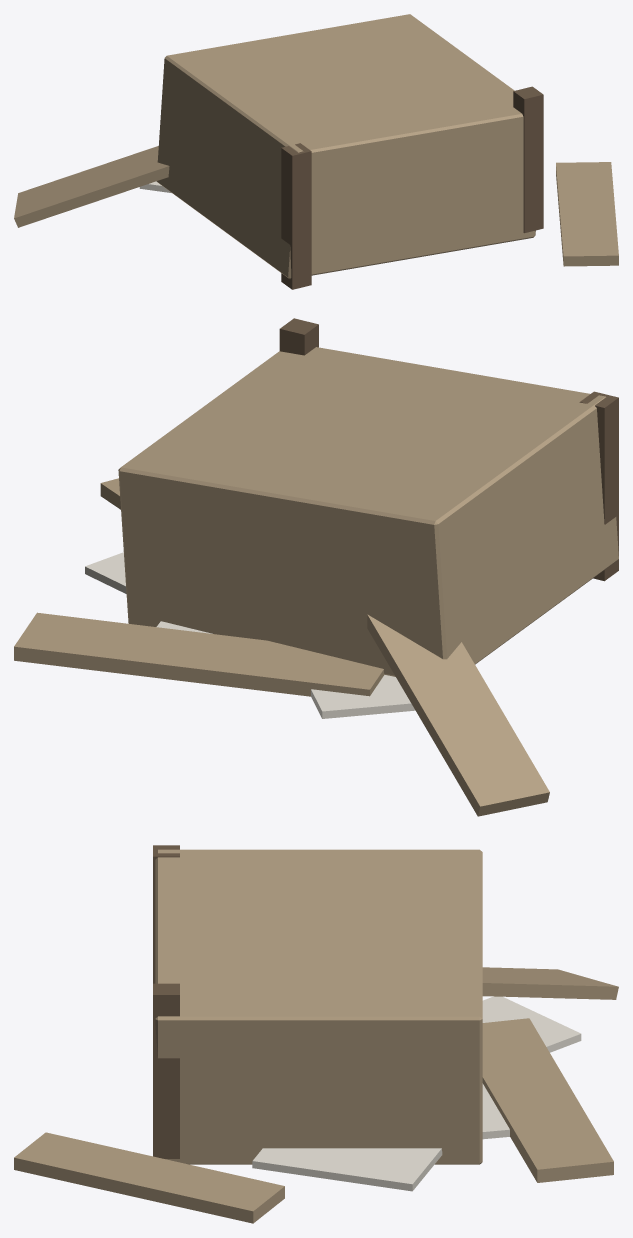
The model's file is Dress_CrateBroken.fbx.
The picture shows the model from 3 angles, top to bottom: view 1: azimuth 30°, elevation 25°; view 2: azimuth 150°, elevation 25°; view 3: azimuth 270°, elevation 25°; orthographic projection. The views are drawn at different scales.
Parts seen in each view (by area): view 1: Dress_CrateBroken; view 2: Dress_CrateBroken; view 3: Dress_CrateBroken.
Boxes of the visible parts, x1,y1,x2,y2 form: Dress_CrateBroken: (14, 14, 618, 289); Dress_CrateBroken: (14, 318, 618, 816); Dress_CrateBroken: (14, 845, 618, 1223).
Bounding box in the file's own units: 118 × 39.69 × 107.
